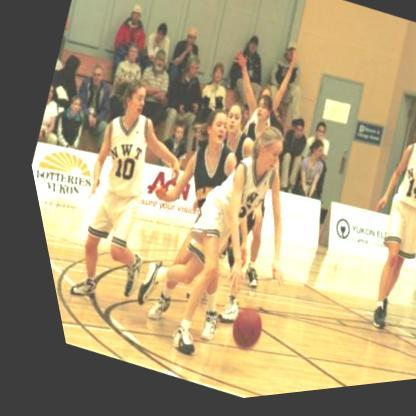basketball: (206, 302, 260, 360)
